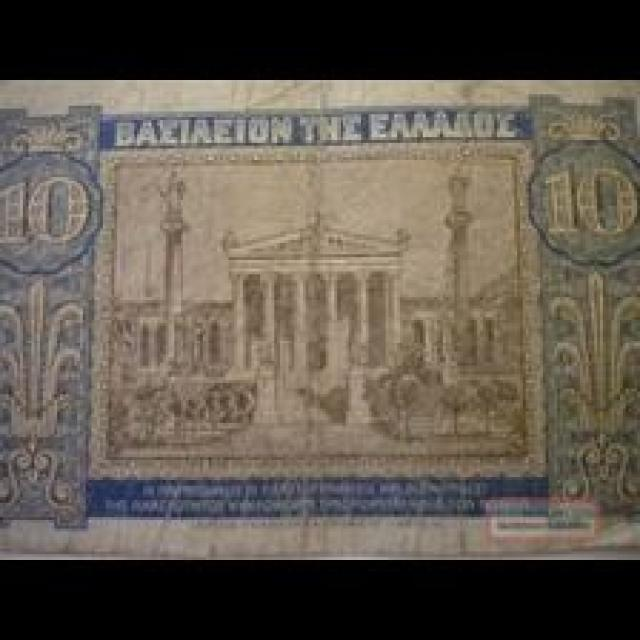banknote: (3, 77, 640, 557), (538, 153, 638, 261), (2, 163, 102, 267)
